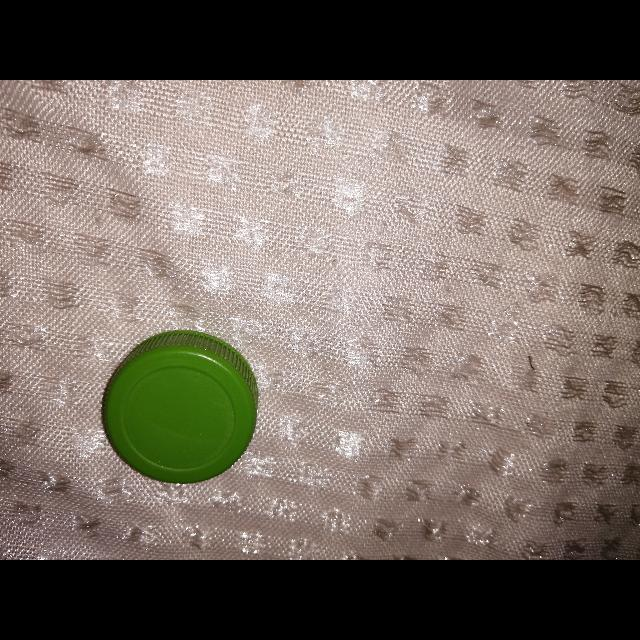plastic_bottle_cap: (103, 328, 260, 484)
